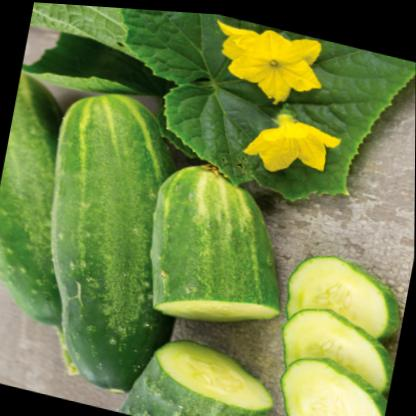cucumber: (11, 72, 208, 412), (135, 138, 308, 334), (113, 326, 279, 416), (253, 337, 392, 416)
